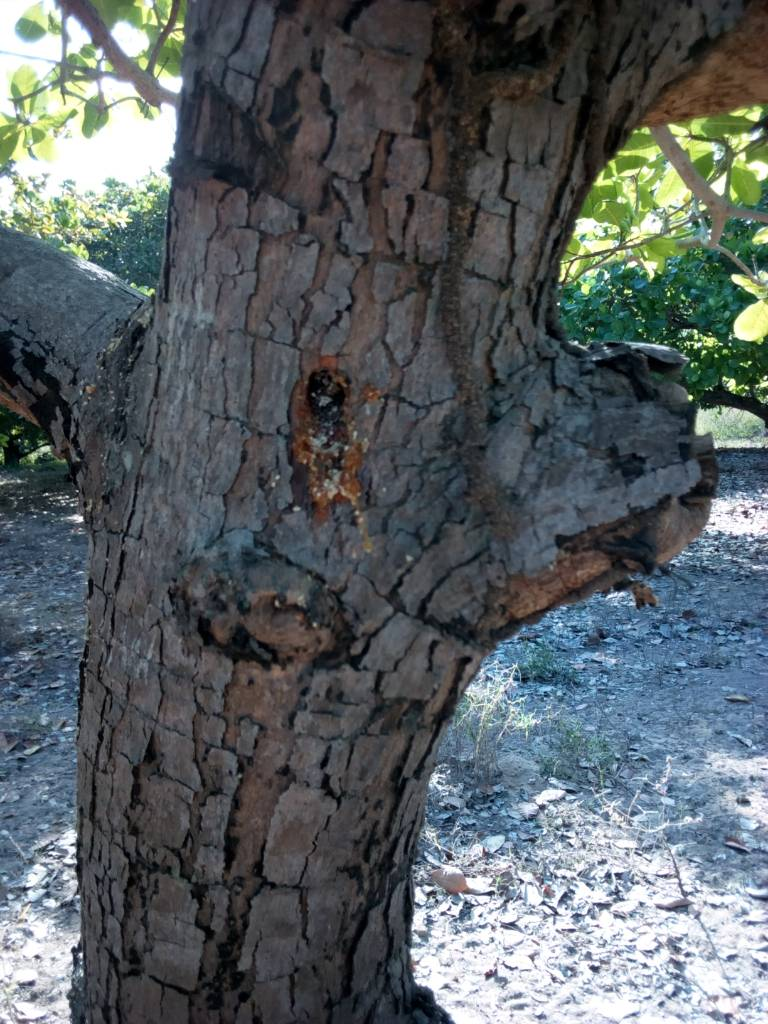Apate terebrans: (281, 351, 381, 536)
